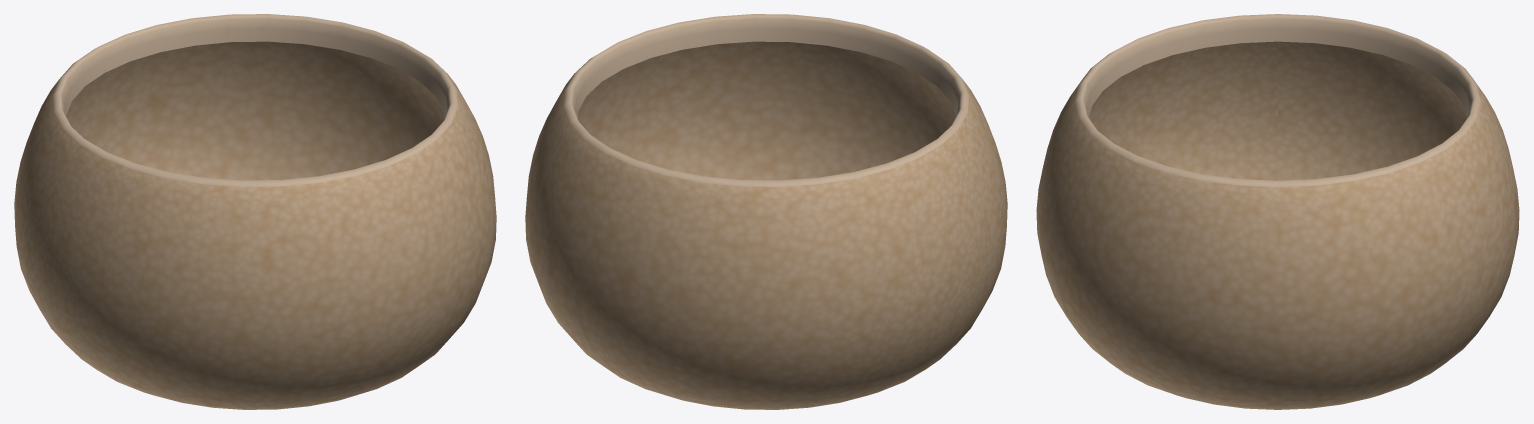
Rendered from plant_pot.obj.
3 renders of one model, left to right at view 1: azimuth 30°, elevation 25°; view 2: azimuth 150°, elevation 25°; view 3: azimuth 270°, elevation 25°, orthographic.
Visible parts, largest first — view 1: Pot_small; view 2: Pot_small; view 3: Pot_small.
Boxes of the visible parts, box(x1,y1,x2,y2) form: Pot_small: box(14, 14, 496, 409); Pot_small: box(525, 14, 1007, 409); Pot_small: box(1036, 14, 1519, 409).
Size of the model in its own units: 0.1736 by 0.0993 by 0.1736.
